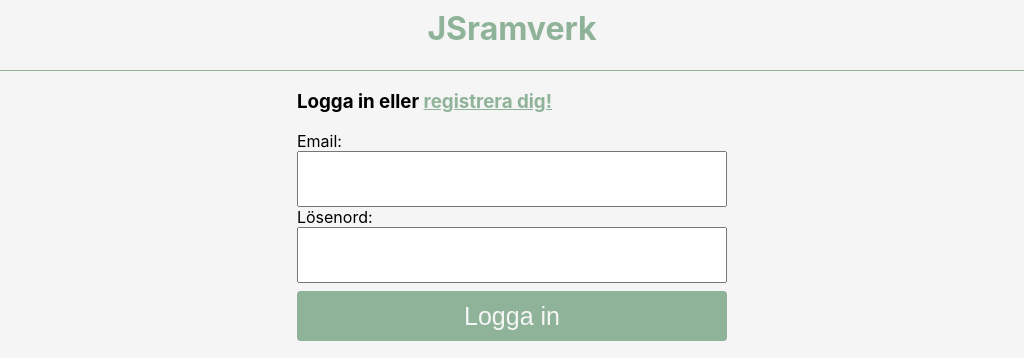
Test: If the link "registrera dig!" renders form
Click the link "registrera dig!" at (488, 101), box [424,90,552,113]
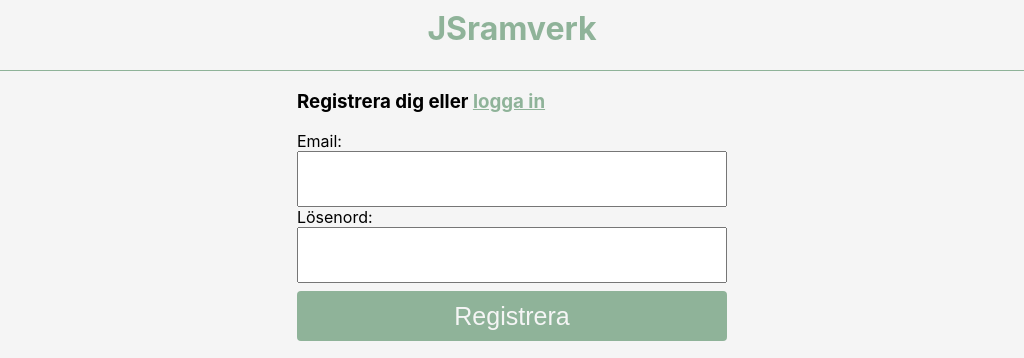
Expected: the text "Email:" is shown, [297,131,342,151]
Expected: the button "Registrera" is shown, [297,291,727,341]
